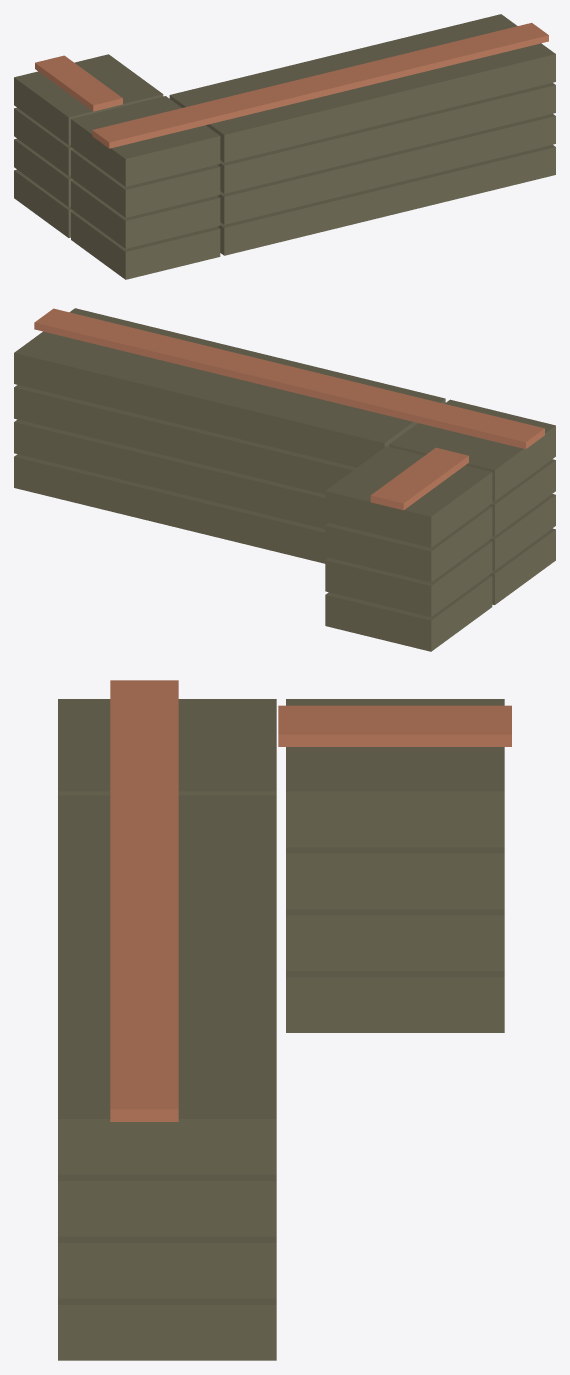
File: SM_SacosRemate_v3_Tablon_e0_Sano_LOD1.fbx
3 renders of one model, top to bottom at view 1: azimuth 30°, elevation 25°; view 2: azimuth 150°, elevation 25°; view 3: azimuth 270°, elevation 25°, orthographic. The views are drawn at different scales.
Parts seen in each view (by area): view 1: SM_sacos_piezas_v32_LOD1; view 2: SM_sacos_piezas_v32_LOD1; view 3: SM_sacos_piezas_v32_LOD1.
Boxes of the visible parts, left/top/right/bottom form: SM_sacos_piezas_v32_LOD1: left=14, top=14, right=555, bottom=279; SM_sacos_piezas_v32_LOD1: left=14, top=308, right=555, bottom=651; SM_sacos_piezas_v32_LOD1: left=58, top=680, right=511, bottom=1360.
Bounding box in the file's own units: 4.46 × 1.24 × 1.99.
